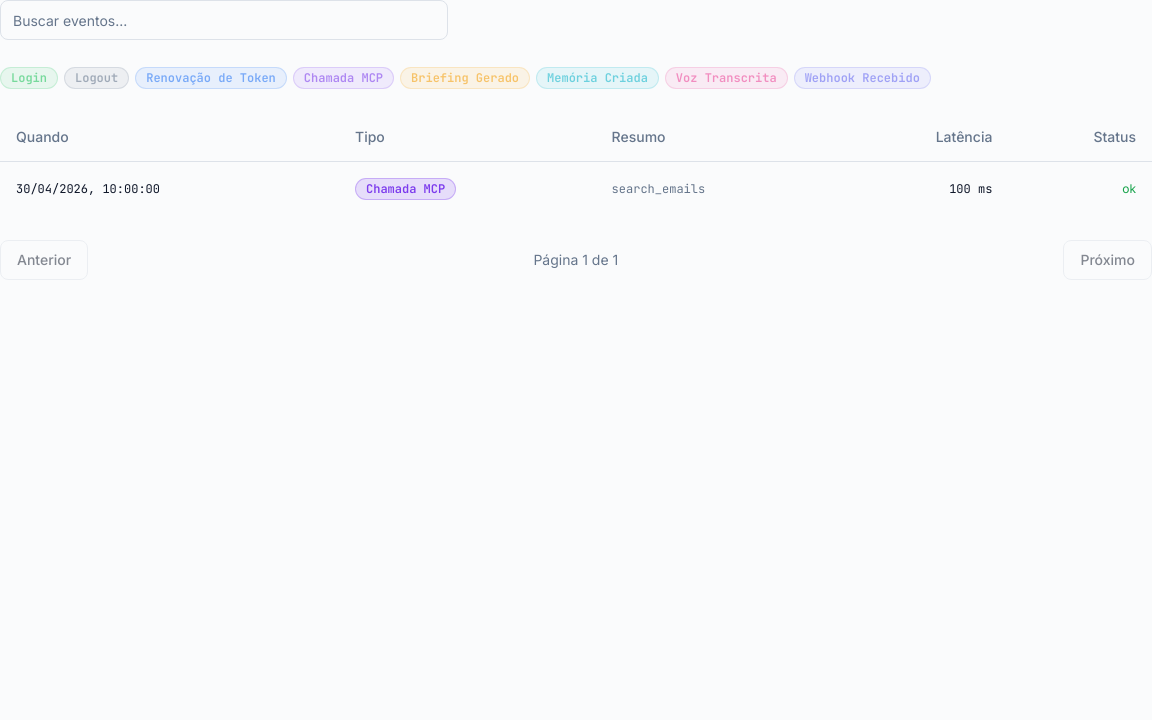
Test: AuditPage › opens detail dialog when row is clicked
What coordinates should you click on to do the following:
click the text "search_emails"
I would click on:
 (88, 188)
Its box is [0, 161, 1151, 216].
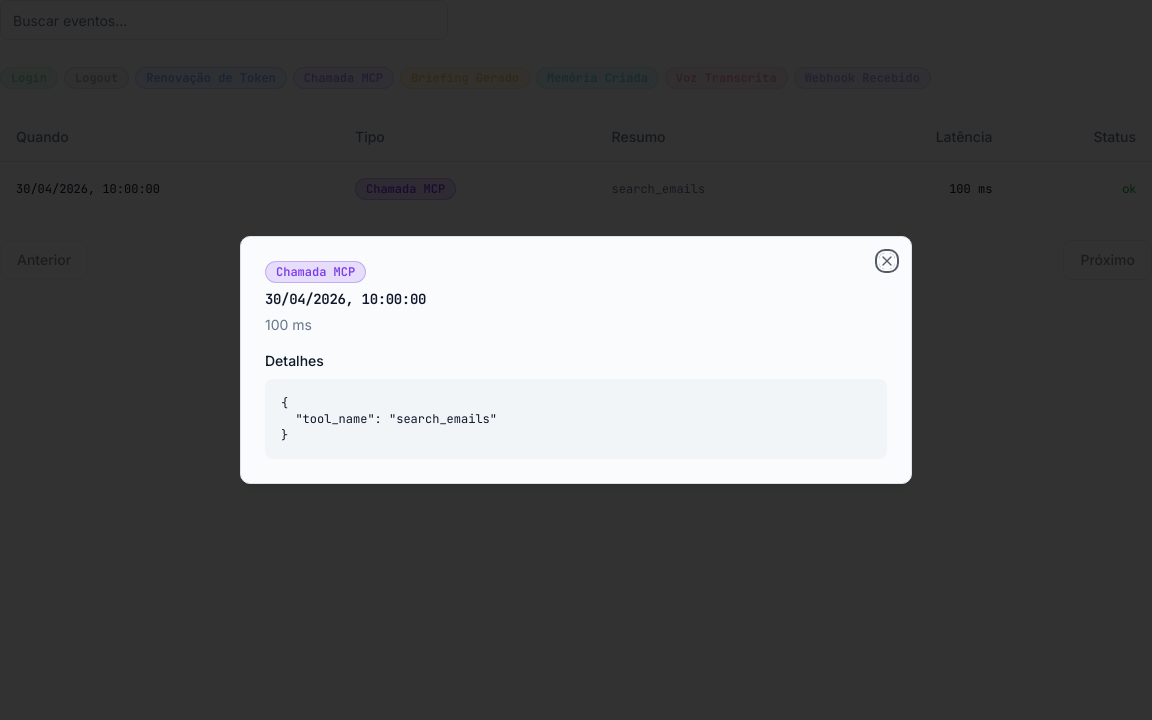
Expected: the heading "Detalhes" is shown, [265, 352, 324, 369]
